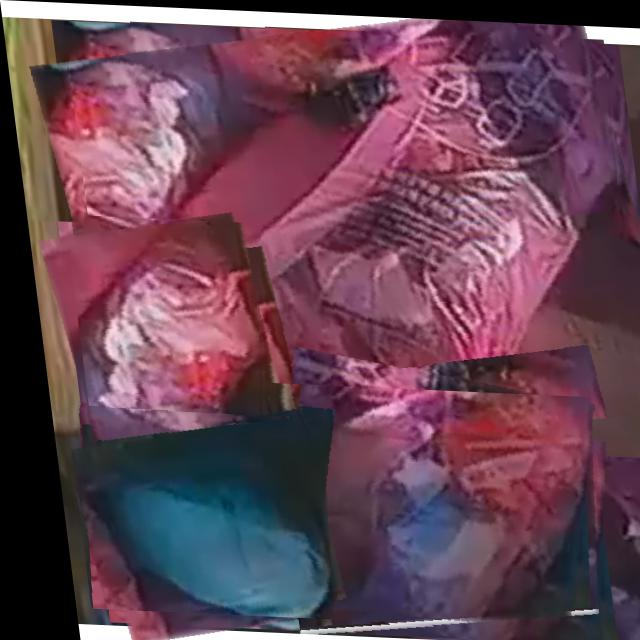other_trashbag: (93, 18, 614, 432), (276, 387, 585, 624), (71, 220, 256, 502), (61, 416, 320, 616)
